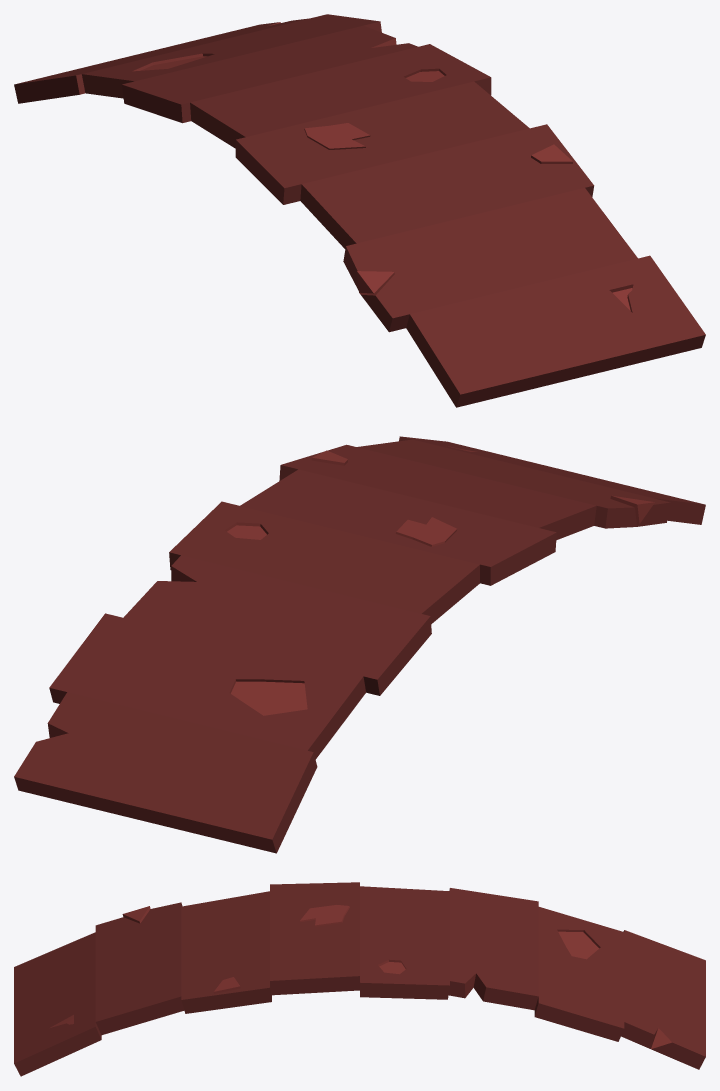
File: Bridge_5_Red.fbx
3 views of the same model, one above another, from view 1: azimuth 30°, elevation 25°; view 2: azimuth 150°, elevation 25°; view 3: azimuth 270°, elevation 25° (orthographic). The views are drawn at different scales.
Parts seen in each view (by area): view 1: Bridge_5_Red_Part_1, Bridge_5_Red_Part_2, Bridge_5_Red_Part_3, Bridge_5_Red_Part_4; view 2: Bridge_5_Red_Part_4, Bridge_5_Red_Part_3, Bridge_5_Red_Part_2, Bridge_5_Red_Part_1; view 3: Bridge_5_Red_Part_2, Bridge_5_Red_Part_3, Bridge_5_Red_Part_1, Bridge_5_Red_Part_4.
Boxes of the visible parts, box(x1,y1,x2,y2) form: Bridge_5_Red_Part_1: box(343, 188, 705, 407); Bridge_5_Red_Part_2: box(235, 81, 594, 248); Bridge_5_Red_Part_3: box(122, 25, 491, 148); Bridge_5_Red_Part_4: box(14, 14, 381, 103); Bridge_5_Red_Part_4: box(14, 613, 365, 853); Bridge_5_Red_Part_3: box(123, 501, 479, 695); Bridge_5_Red_Part_2: box(240, 444, 596, 585); Bridge_5_Red_Part_1: box(357, 436, 705, 528); Bridge_5_Red_Part_2: box(181, 882, 359, 1013); Bridge_5_Red_Part_3: box(360, 886, 538, 1010); Bridge_5_Red_Part_1: box(14, 902, 184, 1076); Bridge_5_Red_Part_4: box(534, 907, 705, 1069).
Size of the model in its own units: 232 by 98.34 by 651.
